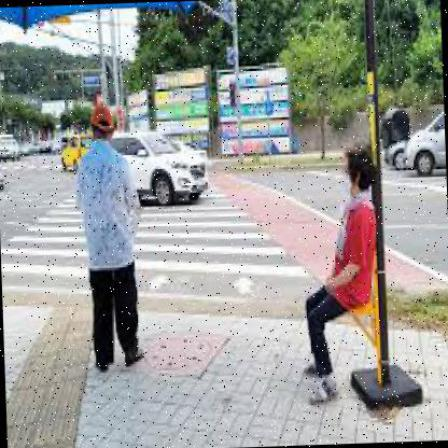silver: (300, 146, 384, 408), (74, 106, 146, 370)
